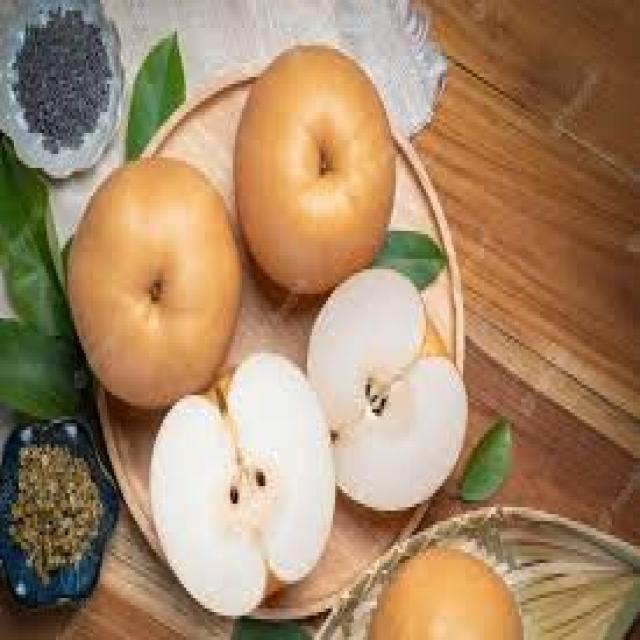Pear: (67, 157, 242, 409), (235, 45, 396, 294)
